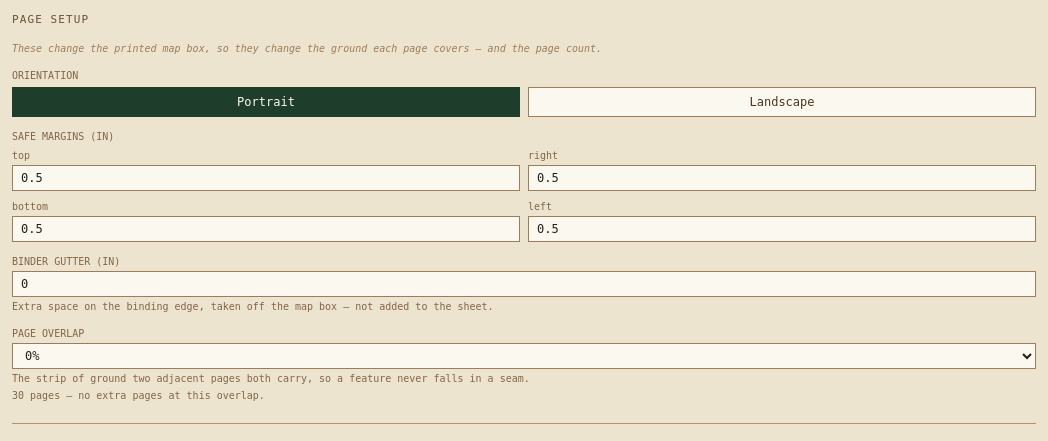
Test: PageSetup shows what overlap costs › names the extra pages at the control that buys them
The image size is (1048, 441).
Select "5%" in the dropdown labelled "Page overlap" at x=524, y=356, box [12,342,1036,368]
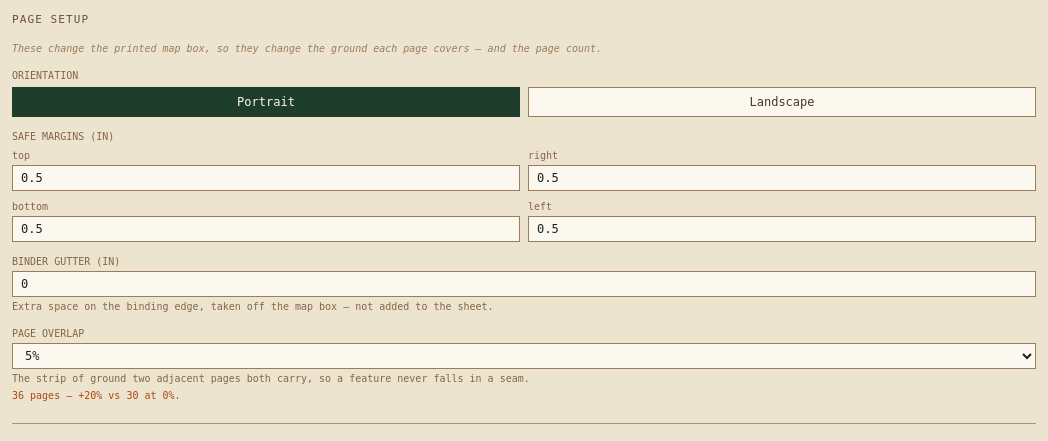
Expected: the text with test id "overlap-cost" shows "30", [12,390,181,400]
Result: the text with test id "overlap-cost" shows "36 pages" at [12,390,181,400]
Result: the text with test id "overlap-cost" shows "+20%" at [12,390,181,400]
